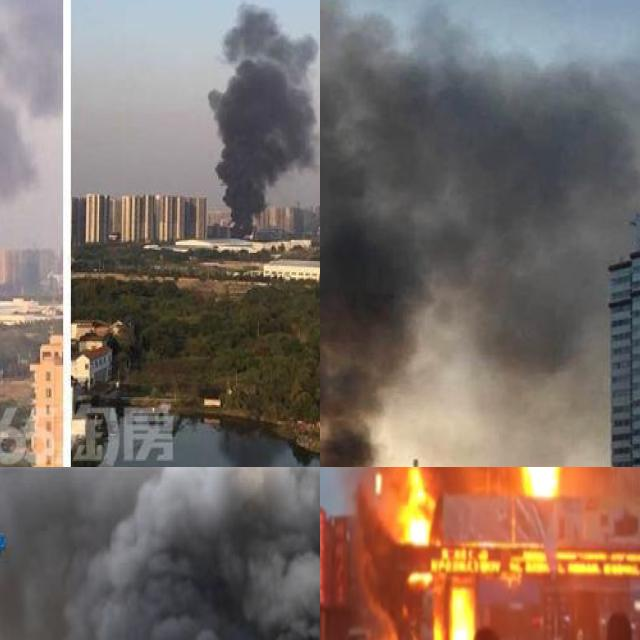fire: (398, 467, 433, 545), (447, 588, 473, 640)
smoke: (320, 0, 640, 467), (0, 469, 320, 640), (208, 5, 318, 237), (0, 0, 62, 292), (349, 467, 394, 640)
